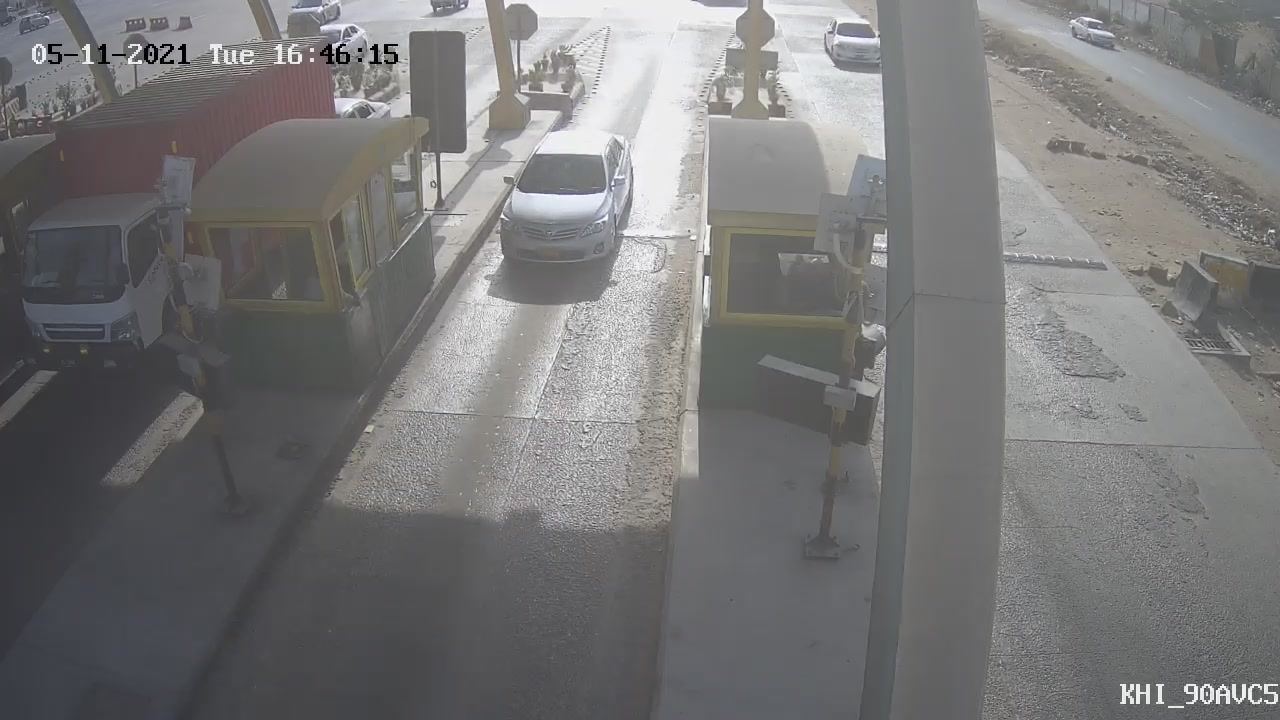F1: (474, 116, 643, 294)
